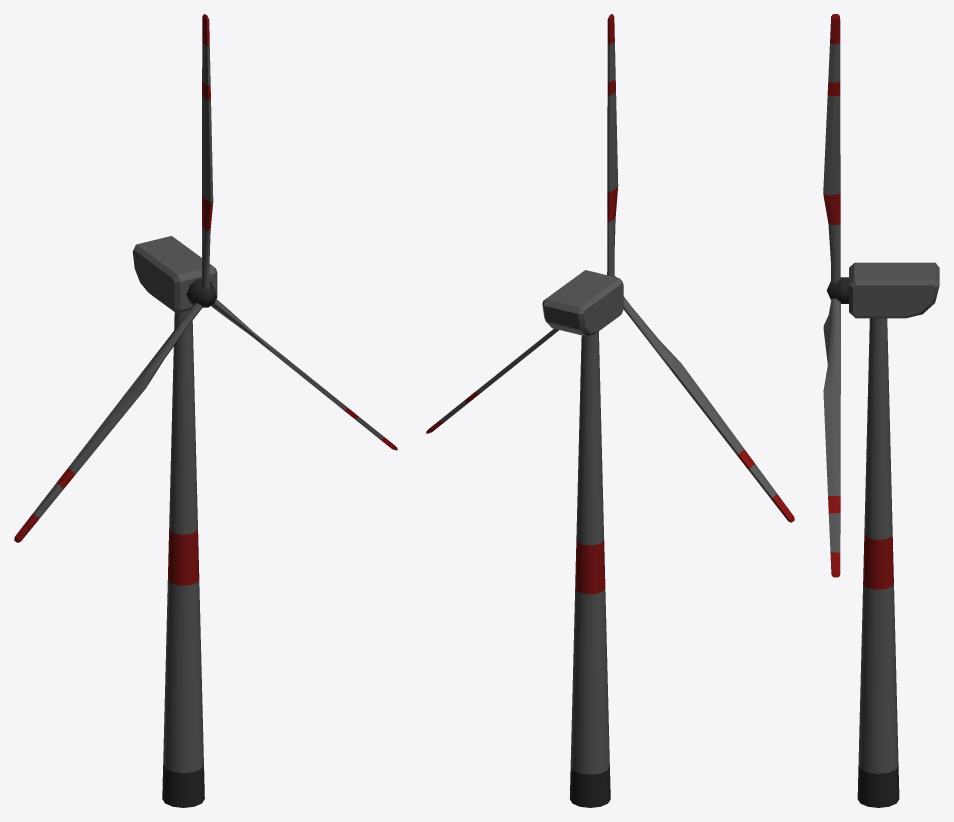
File: SM_WindTurbine_02.obj
The picture shows the model from 3 angles, left to right: view 1: azimuth 30°, elevation 25°; view 2: azimuth 150°, elevation 25°; view 3: azimuth 270°, elevation 25°; orthographic projection. The views are drawn at different scales.
Visible parts, largest first — view 1: SM_WindTurbine:SM_WindTurbine1; view 2: SM_WindTurbine:SM_WindTurbine1; view 3: SM_WindTurbine:SM_WindTurbine1.
Boxes of the visible parts, x1,y1,x2,y2 form: SM_WindTurbine:SM_WindTurbine1: (14,14,397,807); SM_WindTurbine:SM_WindTurbine1: (426,14,794,807); SM_WindTurbine:SM_WindTurbine1: (823,14,939,807).
Size of the model in its own units: 38.43 by 76.98 by 10.36.
